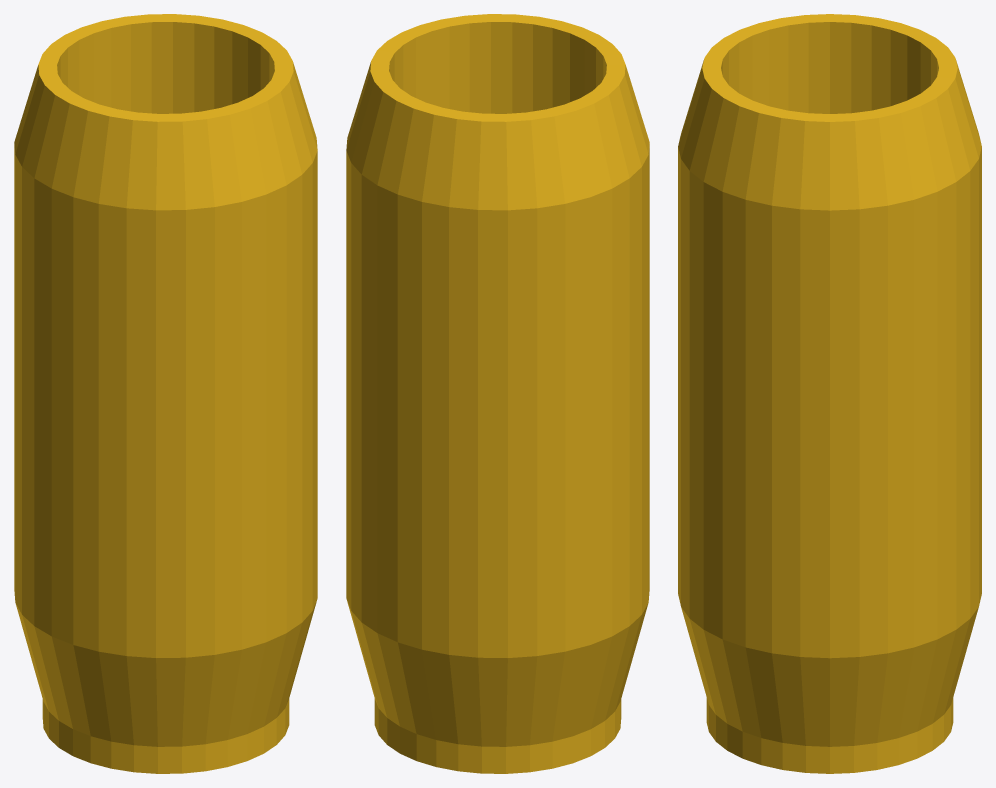
The model's file is VaseLight.fbx.
The picture shows the model from 3 angles, left to right: view 1: azimuth 30°, elevation 25°; view 2: azimuth 150°, elevation 25°; view 3: azimuth 270°, elevation 25°; orthographic projection.
Visible parts, largest first — view 1: Cylinder; view 2: Cylinder; view 3: Cylinder.
Part boxes in pixels (left/top/right/bottom): Cylinder: left=14, top=14, right=317, bottom=773; Cylinder: left=346, top=14, right=649, bottom=773; Cylinder: left=678, top=14, right=981, bottom=773.
Bounding box in the file's own units: 32.18 × 76.39 × 32.18.
